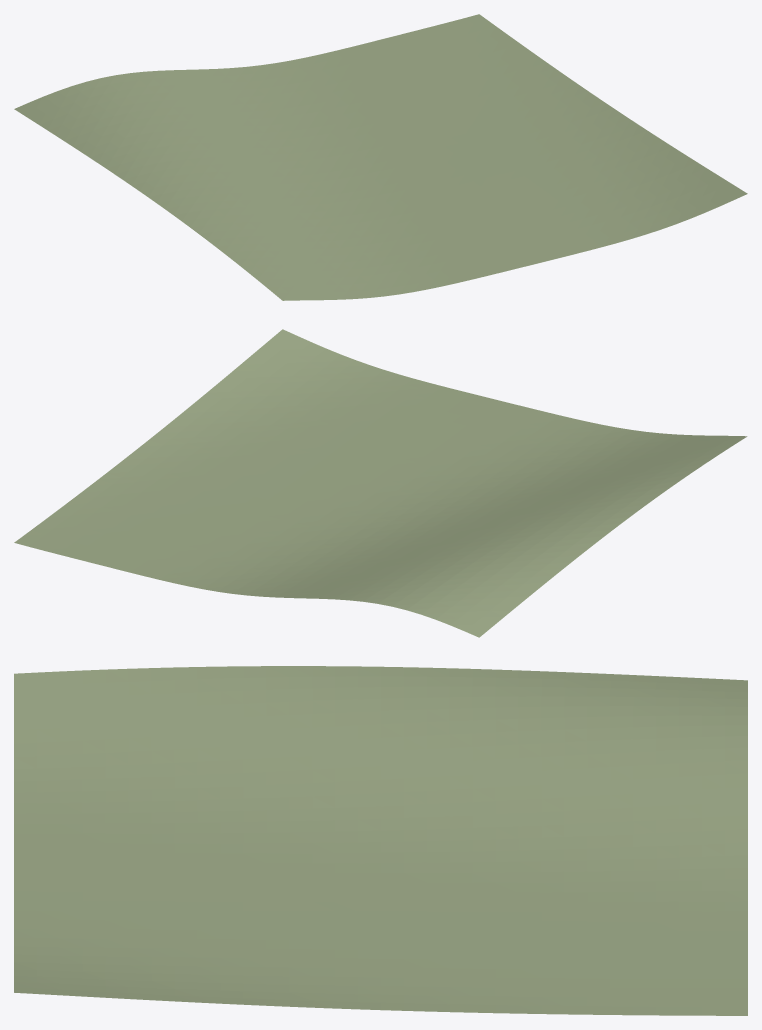
Rendered from desert-6-6.glb.
The picture shows the model from 3 angles, top to bottom: view 1: azimuth 30°, elevation 25°; view 2: azimuth 150°, elevation 25°; view 3: azimuth 270°, elevation 25°; orthographic projection. The views are drawn at different scales.
Visible parts, largest first — view 1: desert-6-6; view 2: desert-6-6; view 3: desert-6-6.
Boxes of the visible parts, box(x1,y1,x2,y2) form: desert-6-6: box(14, 14, 747, 300); desert-6-6: box(14, 329, 747, 637); desert-6-6: box(14, 666, 747, 1015).
Bounding box in the file's own units: 512 × 32.65 × 512.
